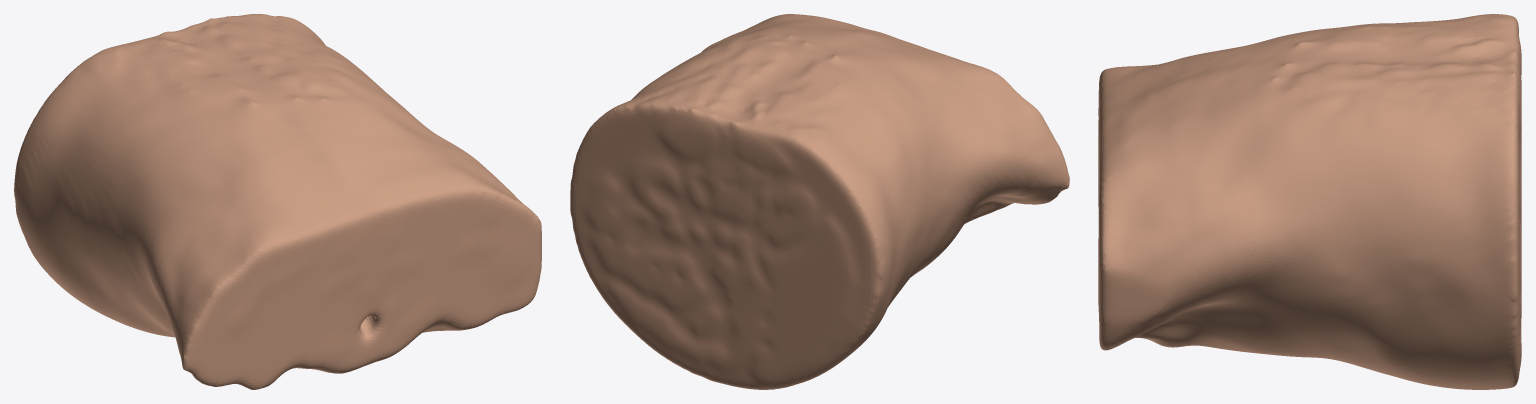
The model's file is chest_skin.glb.
3 views of the same model, side by side, from view 1: azimuth 30°, elevation 25°; view 2: azimuth 150°, elevation 25°; view 3: azimuth 270°, elevation 25° (orthographic). The views are drawn at different scales.
Parts seen in each view (by area): view 1: geometry_0; view 2: geometry_0; view 3: geometry_0.
Boxes of the visible parts, left/top/right/bottom form: geometry_0: left=14, top=14, right=541, bottom=389; geometry_0: left=570, top=14, right=1069, bottom=389; geometry_0: left=1098, top=14, right=1521, bottom=389.
Size of the model in its own units: 381 by 288 by 347.
